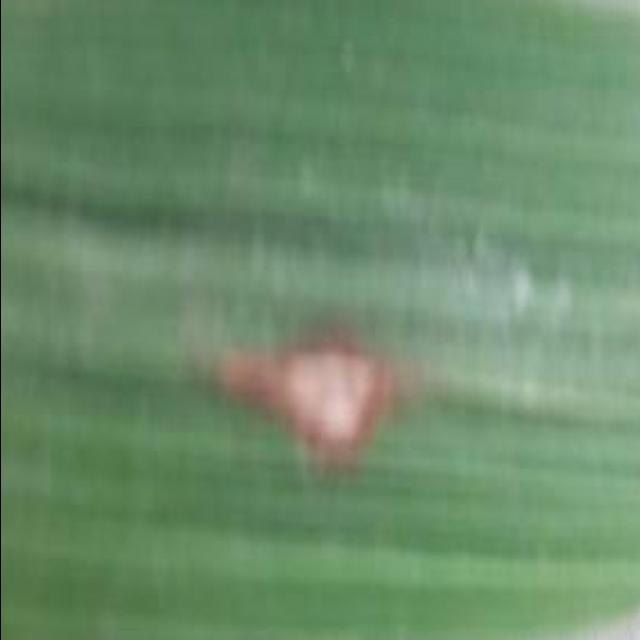Leaf_Blast: (187, 316, 451, 494)
